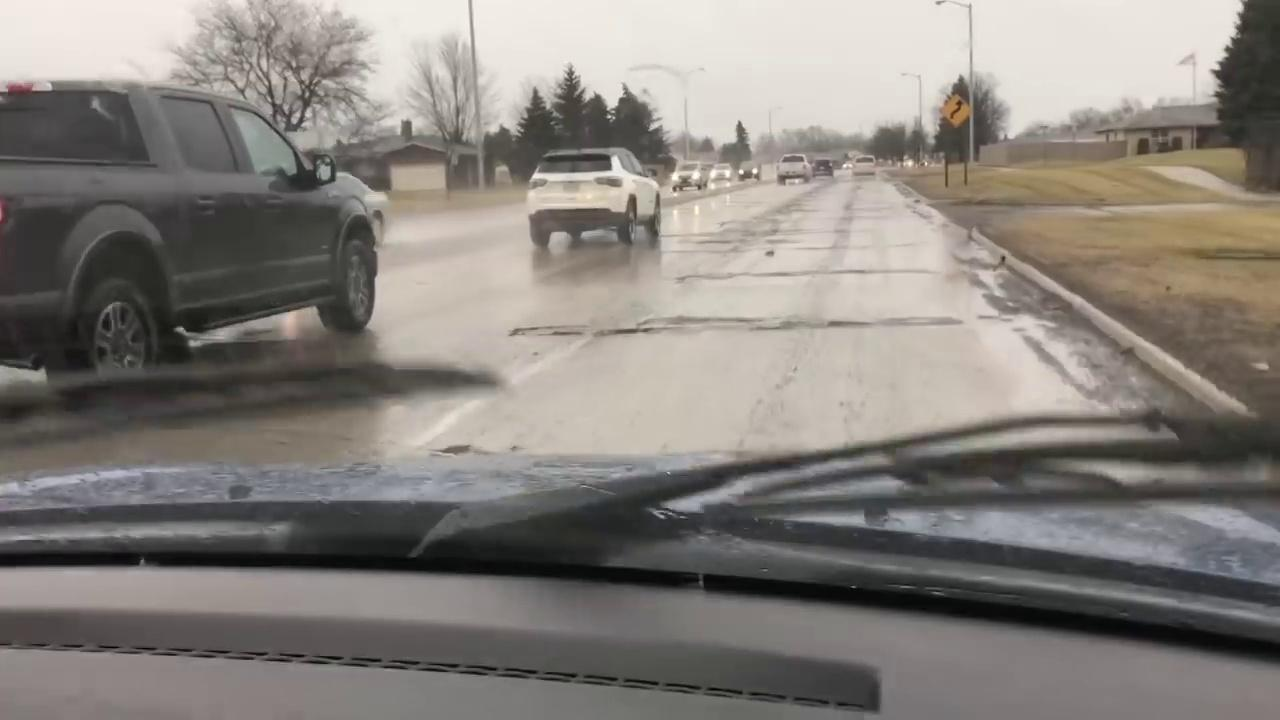pothole: (510, 314, 961, 337), (675, 268, 921, 281), (766, 248, 774, 255)
